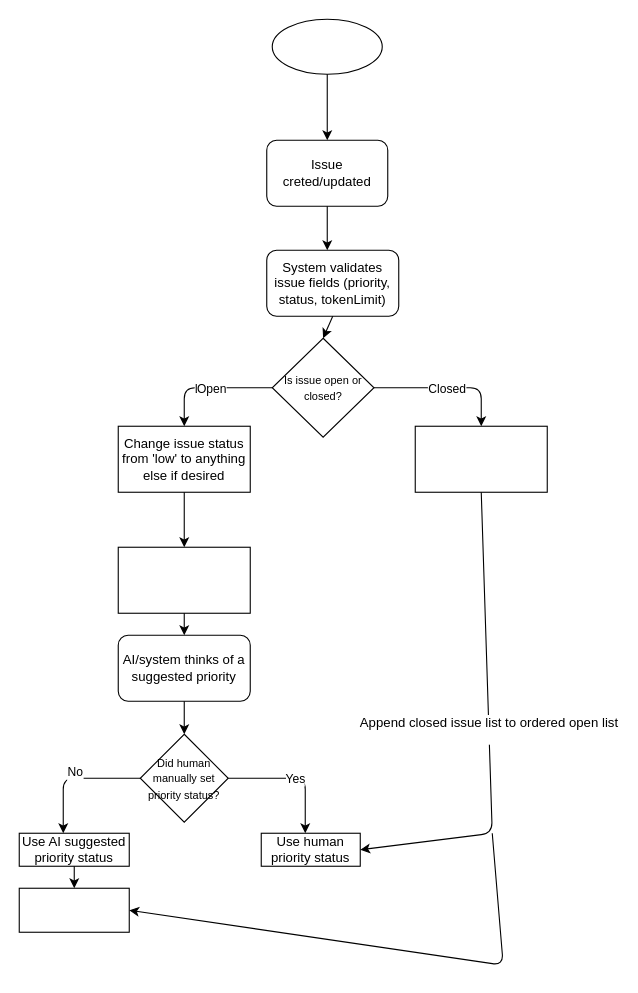
This 638x993 diagram has some shape labels left out. Each missing label, with the box of its shape:
All open issues then ordered by priority status (high at top, low at bottom): (117, 546, 250, 613)
Create/add to separate list with all closed issues: (414, 425, 547, 492)
Start: (271, 18, 382, 74)
Update issue queue: (18, 887, 129, 932)
